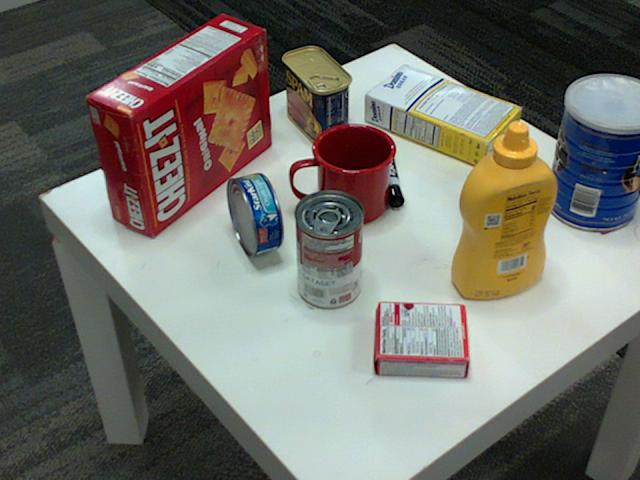cracker_box: (86, 11, 271, 234)
gelatin_box: (373, 302, 469, 380)
large_marker: (376, 139, 403, 206)
master_chef_can: (546, 74, 639, 231)
mug: (291, 121, 397, 223)
mustard_bottle: (450, 122, 558, 298)
potted_meat_can: (280, 47, 350, 145)
sugar_box: (365, 64, 524, 168)
tomato_soup_can: (294, 190, 364, 309)
tuna_fish_can: (227, 172, 283, 257)
